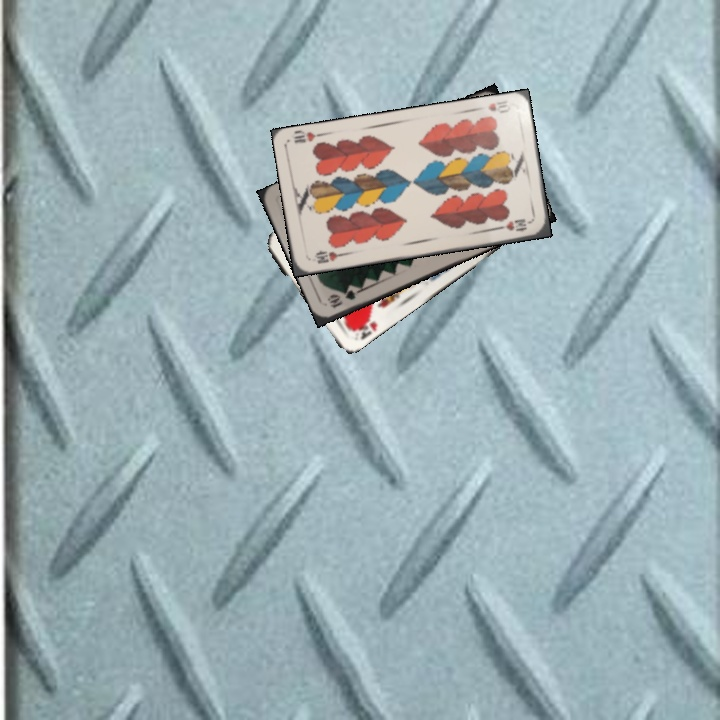G10: (324, 282, 363, 310)
H10: (311, 247, 347, 266), (484, 97, 513, 116)
HK: (348, 312, 380, 342)
